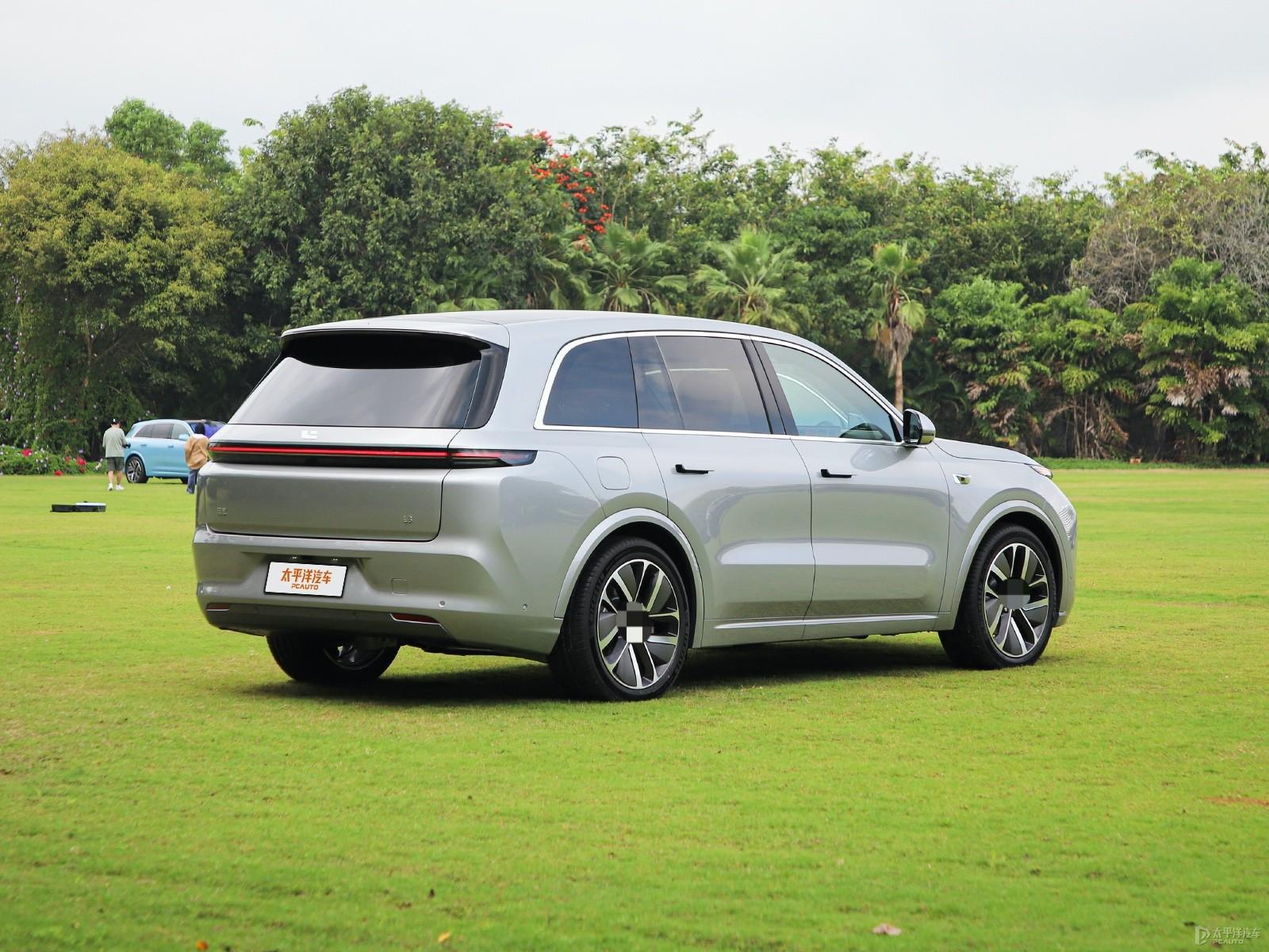Li Auto: (301, 429, 319, 440)
